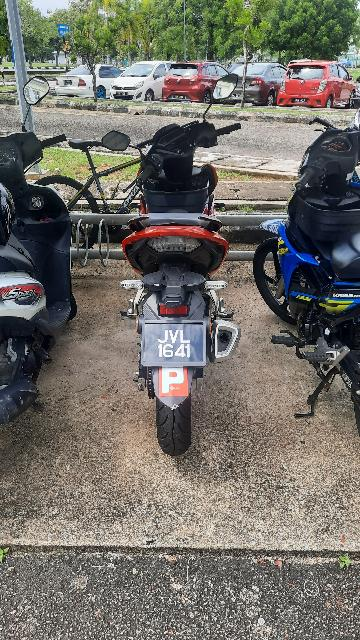License_Plate: (125, 307, 216, 372)
motorcycle: (58, 52, 275, 458)
